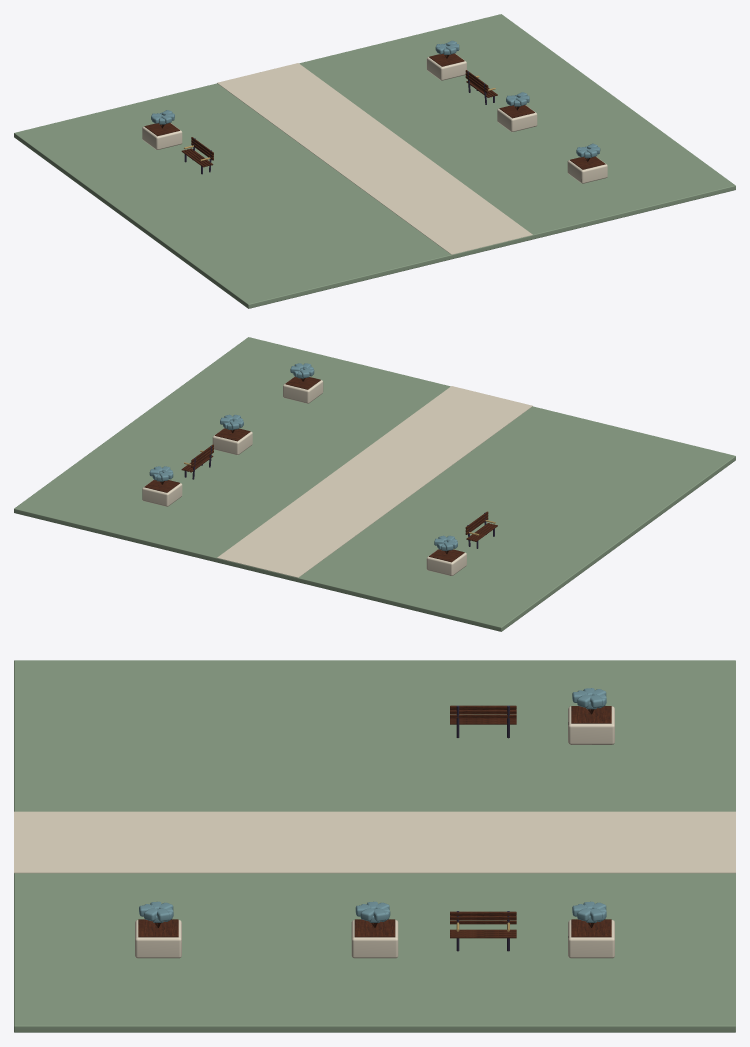
Rendered from park_garden_base.glb.
The picture shows the model from 3 angles, top to bottom: view 1: azimuth 30°, elevation 25°; view 2: azimuth 150°, elevation 25°; view 3: azimuth 270°, elevation 25°; orthographic projection. The views are drawn at different scales.
Visible parts, largest first — view 1: park_garden_floor, garden_path, park_garden_container.003, park_garden_container.002, park_garden_container.004, park_garden_container.005; view 2: park_garden_floor, garden_path, park_garden_container.005, park_garden_container.003, park_garden_container.002, park_garden_container.004; view 3: park_garden_floor, garden_path, park_garden_container.004, park_garden_container.002, park_garden_container.003, park_garden_container.005, park_garden_soil.004, park_garden_soil.005, park_garden_soil.003, park_garden_soil.002.
Part boxes in pixels (box(x1,y1,x2,y2)): park_garden_floor: box(14, 14, 735, 308); garden_path: box(217, 63, 532, 254); park_garden_container.003: box(567, 157, 607, 183); park_garden_container.002: box(142, 123, 182, 149); park_garden_container.004: box(497, 105, 537, 131); park_garden_container.005: box(426, 53, 466, 80); park_garden_floor: box(14, 337, 735, 631); garden_path: box(217, 386, 532, 577); park_garden_container.005: box(142, 480, 182, 506); park_garden_container.003: box(283, 376, 323, 403); park_garden_container.002: box(426, 549, 466, 575); park_garden_container.004: box(212, 428, 252, 454); park_garden_floor: box(14, 660, 735, 1032); garden_path: box(14, 811, 735, 873); park_garden_container.004: box(351, 920, 398, 958); park_garden_container.002: box(568, 706, 614, 744); park_garden_container.003: box(135, 920, 181, 958); park_garden_container.005: box(568, 920, 614, 958); park_garden_soil.004: box(354, 919, 395, 937); park_garden_soil.005: box(571, 919, 611, 937); park_garden_soil.003: box(138, 919, 178, 937); park_garden_soil.002: box(571, 706, 611, 723).
Size of the model in its own units: 24 by 1.54 by 20.
6 materials, 1 textured.
